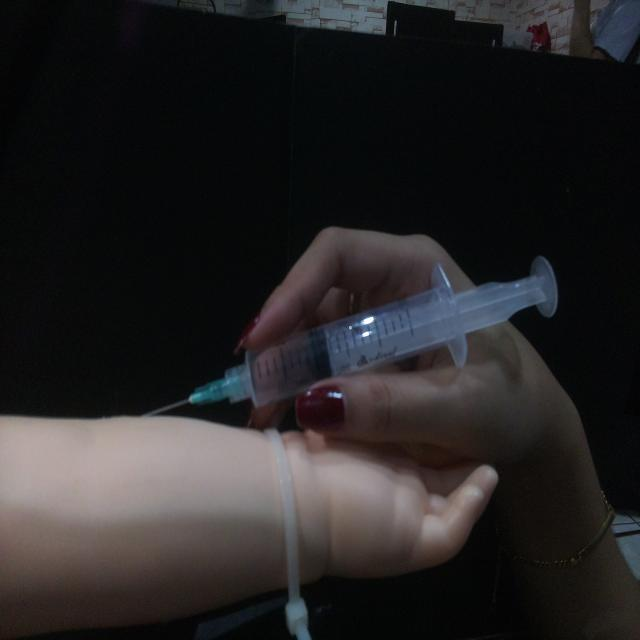18deg: (139, 250, 562, 420)
